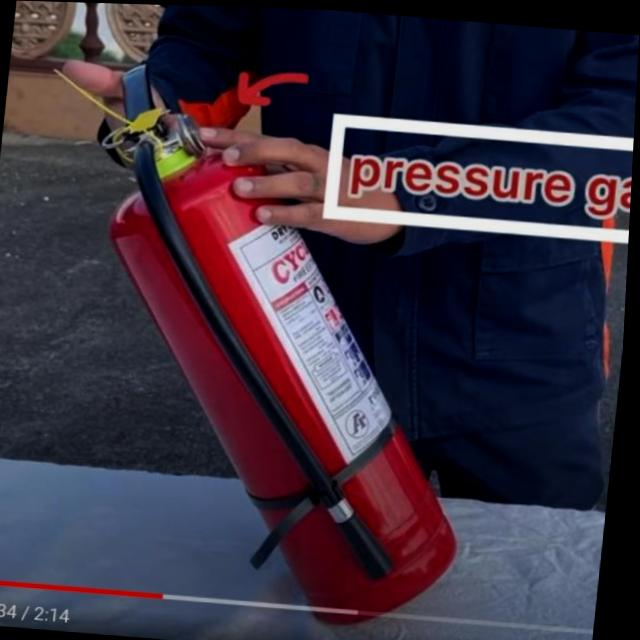FireExtinguisher: (52, 53, 511, 633)
